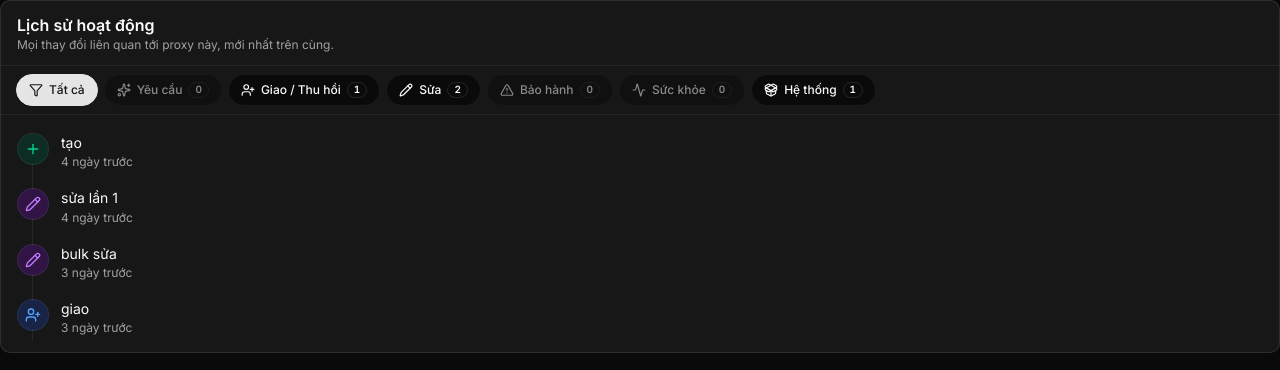
Timeline › filtering by 'Sửa' shows only edited events
Click the button "Sửa 2": [434, 90] box [386,74,481,106]
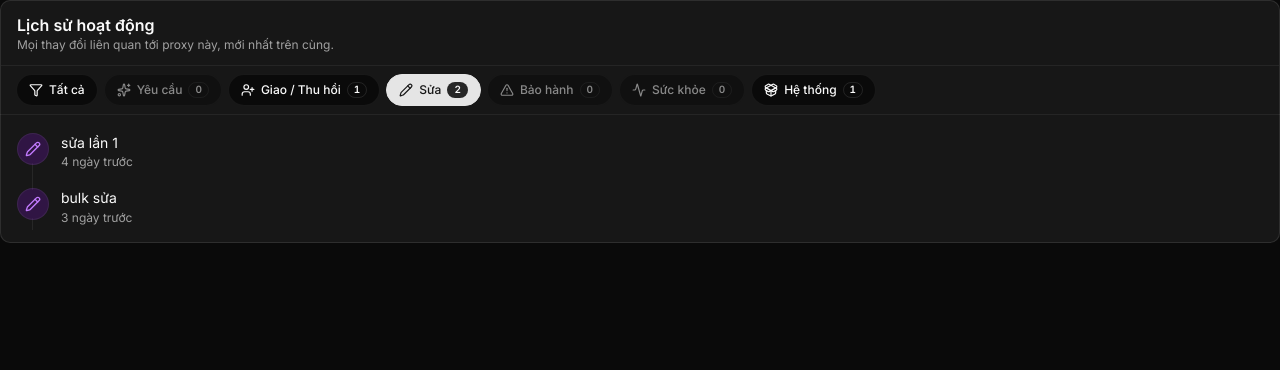
Expected: the text "sửa lần 1" is shown, [61,133,118,152]
Now the text "tạo" is gone
